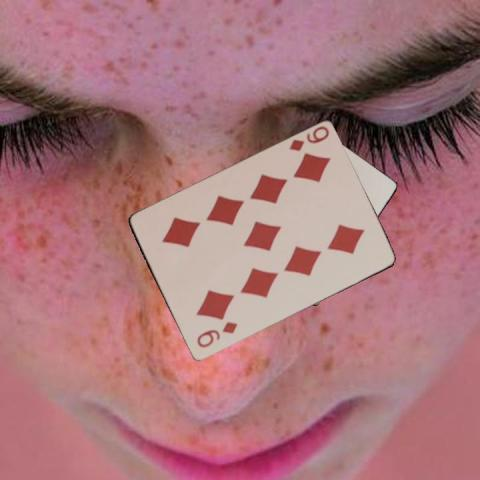9d: (285, 123, 331, 154), (193, 319, 239, 349)
